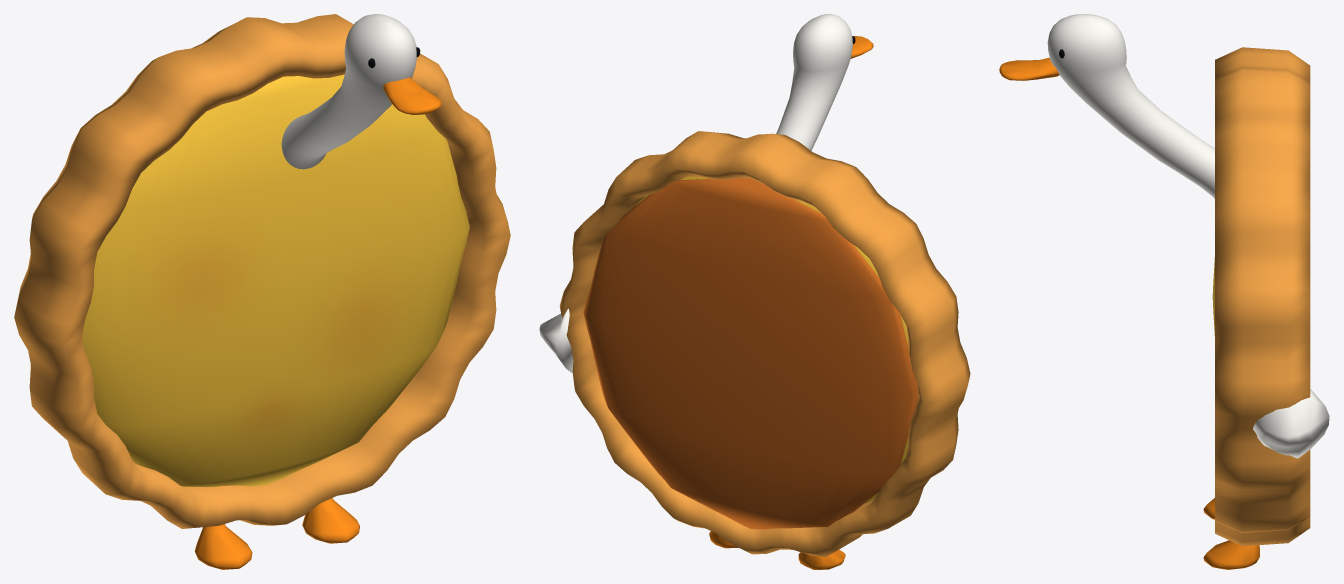
The model's file is duck-eggtart.glb.
3 renders of one model, left to right at view 1: azimuth 30°, elevation 25°; view 2: azimuth 150°, elevation 25°; view 3: azimuth 270°, elevation 25°, orthographic. The views are drawn at different scales.
Visible parts, largest first — view 1: duck-eggtart; view 2: duck-eggtart; view 3: duck-eggtart.
Boxes of the visible parts, <box> form: duck-eggtart: <box>14,14,510,569</box>; duck-eggtart: <box>539,14,970,569</box>; duck-eggtart: <box>999,14,1329,569</box>.
Bounding box in the file's own units: 0.8844 × 1 × 0.5604.
Materials: 1 (1 with a texture image).
